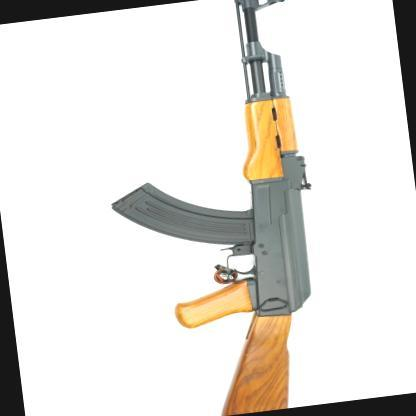rifle: (103, 0, 360, 416)
